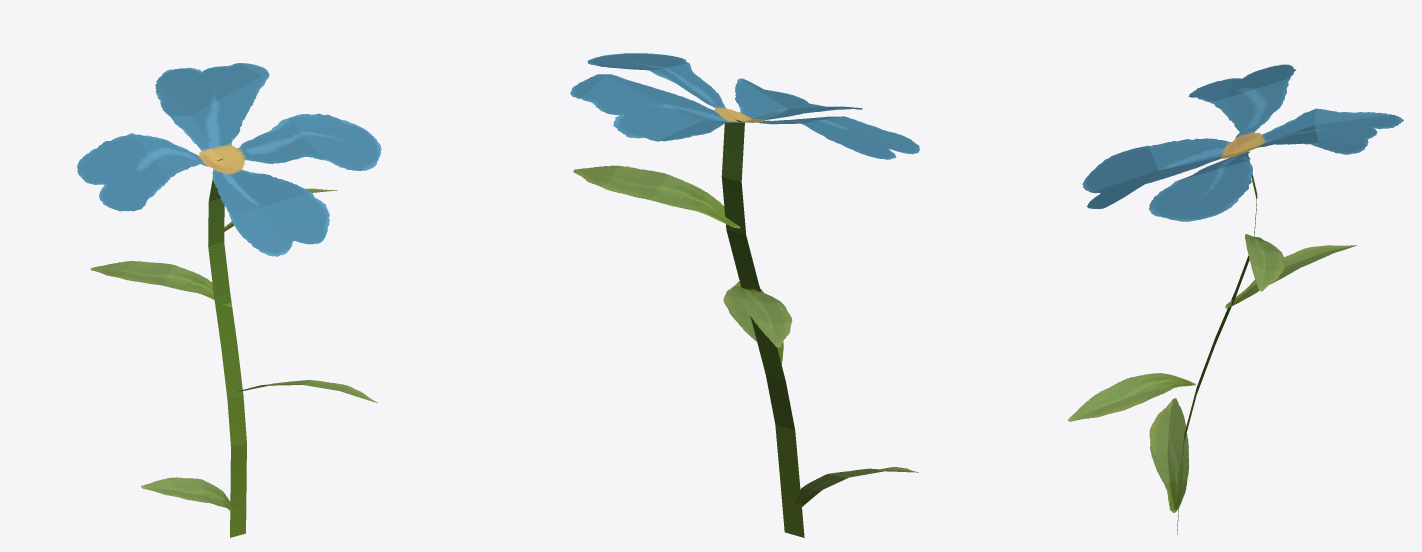
The model's file is Flower_4.fbx.
3 views of the same model, side by side, from view 1: azimuth 30°, elevation 25°; view 2: azimuth 150°, elevation 25°; view 3: azimuth 270°, elevation 25° (orthographic). The views are drawn at different scales.
Parts seen in each view (by area): view 1: Leaf.003; view 2: Leaf.003; view 3: Leaf.003.
Boxes of the visible parts, x1=… form: Leaf.003: x1=77, y1=63, x2=381, y2=537; Leaf.003: x1=570, y1=53, x2=919, y2=537; Leaf.003: x1=1068, y1=64, x2=1403, y2=534.
Bounding box in the file's own units: 140 × 196 × 137.
